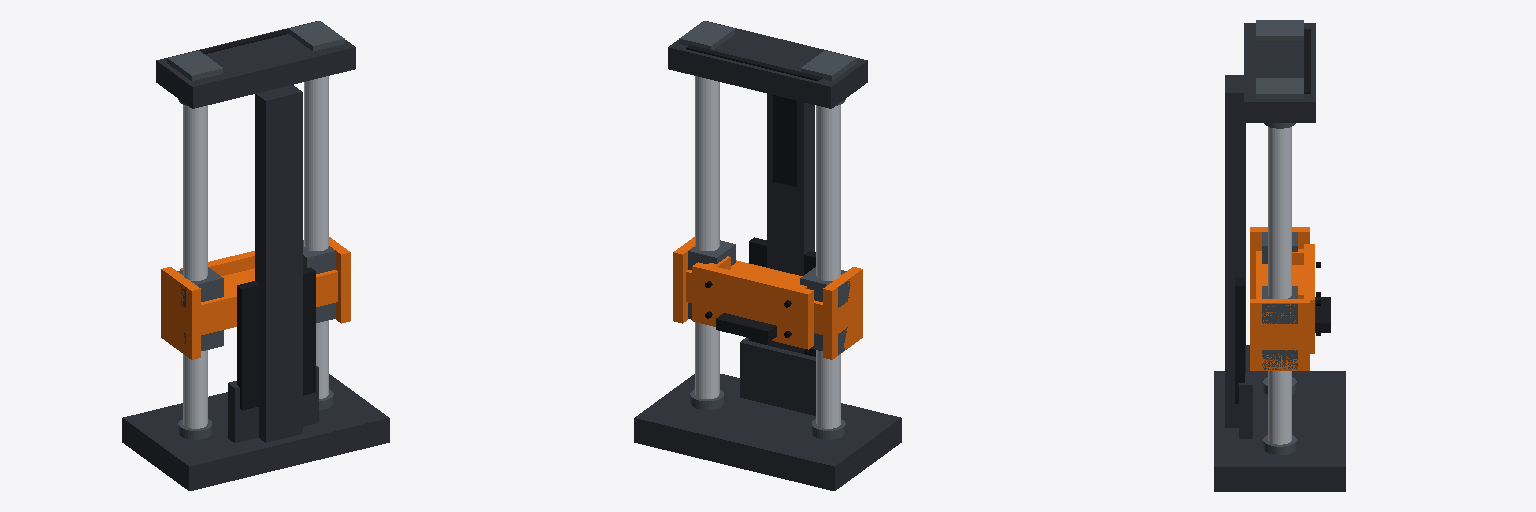
robot.urdf — dual_column_lift_carriage:
<robot name="dual_column_lift_carriage">
  <material name="machine_base">
    <color rgba="0.23 0.24 0.27 1" />
    </material>
  <material name="machine_shadow">
    <color rgba="0.14 0.15 0.17 1" />
    </material>
  <material name="guide_steel">
    <color rgba="0.79 0.81 0.84 1" />
    </material>
  <material name="carriage_paint">
    <color rgba="0.96 0.48 0.11 1" />
    </material>
  <material name="bearing_housing">
    <color rgba="0.33 0.36 0.39 1" />
    </material>
  <material name="bushing_bronze">
    <color rgba="0.69 0.53 0.25 1" />
    </material>
  <material name="fastener_black">
    <color rgba="0.1 0.1 0.11 1" />
    </material>
  <link name="base_plinth">
    <inertial>
      <origin xyz="0 0 0.0225" rpy="0 0 0" />
      <mass value="28" />
      <inertia ixx="0.117658" ixy="0" ixz="0" iyy="0.341658" iyz="0" izz="0.449867" />
      </inertial>
    <visual>
      <origin xyz="0 0 0.0225" rpy="0 0 0" />
      <geometry>
        <box size="0.38 0.22 0.045" />
        </geometry>
      <material name="machine_base" />
      </visual>
    <visual>
      <origin xyz="0 -0.065 0.01" rpy="0 0 0" />
      <geometry>
        <box size="0.29 0.05 0.02" />
        </geometry>
      <material name="machine_shadow" />
      </visual>
    <visual>
      <origin xyz="0 0.065 0.01" rpy="0 0 0" />
      <geometry>
        <box size="0.29 0.05 0.02" />
        </geometry>
      <material name="machine_shadow" />
      </visual>
    <collision name="base_plinth__visual_1">
      <origin xyz="0 0 0.0225" rpy="0 0 0" />
      <geometry>
        <box size="0.38 0.22 0.045" />
        </geometry>
      </collision>
    <collision name="base_plinth__visual_2">
      <origin xyz="0 -0.065 0.01" rpy="0 0 0" />
      <geometry>
        <box size="0.29 0.05 0.02" />
        </geometry>
      </collision>
    <collision name="base_plinth__visual_3">
      <origin xyz="0 0.065 0.01" rpy="0 0 0" />
      <geometry>
        <box size="0.29 0.05 0.02" />
        </geometry>
      </collision>
    </link>
  <link name="service_mast">
    <inertial>
      <origin xyz="0 0.012 0.31" rpy="0 0 0" />
      <mass value="11" />
      <inertia ixx="0.354658" ixy="0" ixz="0" iyy="0.382067" iyz="0" izz="0.0319917" />
      </inertial>
    <visual>
      <origin xyz="0 0 0.31" rpy="0 0 0" />
      <geometry>
        <box size="0.07 0.035 0.62" />
        </geometry>
      <material name="machine_base" />
      </visual>
    <visual>
      <origin xyz="0 0.018 0.05" rpy="0 0 0" />
      <geometry>
        <box size="0.16 0.024 0.1" />
        </geometry>
      <material name="machine_base" />
      </visual>
    <visual>
      <origin xyz="0 0.008 0.49" rpy="0 0 0" />
      <geometry>
        <box size="0.045 0.02 0.18" />
        </geometry>
      <material name="machine_shadow" />
      </visual>
    <visual>
      <origin xyz="-0.045 0.008 0.17" rpy="0 0 0" />
      <geometry>
        <box size="0.05 0.018 0.22" />
        </geometry>
      <material name="machine_shadow" />
      </visual>
    <visual>
      <origin xyz="0.045 0.008 0.17" rpy="0 0 0" />
      <geometry>
        <box size="0.05 0.018 0.22" />
        </geometry>
      <material name="machine_shadow" />
      </visual>
    <collision name="service_mast__visual_1">
      <origin xyz="0 0 0.31" rpy="0 0 0" />
      <geometry>
        <box size="0.07 0.035 0.62" />
        </geometry>
      </collision>
    <collision name="service_mast__visual_2">
      <origin xyz="0 0.018 0.05" rpy="0 0 0" />
      <geometry>
        <box size="0.16 0.024 0.1" />
        </geometry>
      </collision>
    <collision name="service_mast__visual_3">
      <origin xyz="0 0.008 0.49" rpy="0 0 0" />
      <geometry>
        <box size="0.045 0.02 0.18" />
        </geometry>
      </collision>
    <collision name="service_mast__visual_4">
      <origin xyz="-0.045 0.008 0.17" rpy="0 0 0" />
      <geometry>
        <box size="0.05 0.018 0.22" />
        </geometry>
      </collision>
    <collision name="service_mast__visual_5">
      <origin xyz="0.045 0.008 0.17" rpy="0 0 0" />
      <geometry>
        <box size="0.05 0.018 0.22" />
        </geometry>
      </collision>
    </link>
  <link name="left_column">
    <inertial>
      <origin xyz="0 0 0.31" rpy="0 0 0" />
      <mass value="6.8" />
      <inertia ixx="0.218649" ixy="0" ixz="0" iyy="0.218649" iyz="0" izz="0.0016456" />
      </inertial>
    <visual>
      <origin xyz="0 0 0.31" rpy="0 0 0" />
      <geometry>
        <cylinder radius="0.02" length="0.62" />
        </geometry>
      <material name="guide_steel" />
      </visual>
    <visual>
      <origin xyz="0 0 0.008" rpy="0 0 0" />
      <geometry>
        <cylinder radius="0.028" length="0.016" />
        </geometry>
      <material name="bearing_housing" />
      </visual>
    <visual>
      <origin xyz="0 0 0.612" rpy="0 0 0" />
      <geometry>
        <cylinder radius="0.028" length="0.016" />
        </geometry>
      <material name="bearing_housing" />
      </visual>
    <collision name="left_column__visual_1">
      <origin xyz="0 0 0.31" rpy="0 0 0" />
      <geometry>
        <cylinder radius="0.02" length="0.62" />
        </geometry>
      </collision>
    <collision name="left_column__visual_2">
      <origin xyz="0 0 0.008" rpy="0 0 0" />
      <geometry>
        <cylinder radius="0.028" length="0.016" />
        </geometry>
      </collision>
    <collision name="left_column__visual_3">
      <origin xyz="0 0 0.612" rpy="0 0 0" />
      <geometry>
        <cylinder radius="0.028" length="0.016" />
        </geometry>
      </collision>
    </link>
  <link name="right_column">
    <inertial>
      <origin xyz="0 0 0.31" rpy="0 0 0" />
      <mass value="6.8" />
      <inertia ixx="0.218649" ixy="0" ixz="0" iyy="0.218649" iyz="0" izz="0.0016456" />
      </inertial>
    <visual>
      <origin xyz="0 0 0.31" rpy="0 0 0" />
      <geometry>
        <cylinder radius="0.02" length="0.62" />
        </geometry>
      <material name="guide_steel" />
      </visual>
    <visual>
      <origin xyz="0 0 0.008" rpy="0 0 0" />
      <geometry>
        <cylinder radius="0.028" length="0.016" />
        </geometry>
      <material name="bearing_housing" />
      </visual>
    <visual>
      <origin xyz="0 0 0.612" rpy="0 0 0" />
      <geometry>
        <cylinder radius="0.028" length="0.016" />
        </geometry>
      <material name="bearing_housing" />
      </visual>
    <collision name="right_column__visual_1">
      <origin xyz="0 0 0.31" rpy="0 0 0" />
      <geometry>
        <cylinder radius="0.02" length="0.62" />
        </geometry>
      </collision>
    <collision name="right_column__visual_2">
      <origin xyz="0 0 0.008" rpy="0 0 0" />
      <geometry>
        <cylinder radius="0.028" length="0.016" />
        </geometry>
      </collision>
    <collision name="right_column__visual_3">
      <origin xyz="0 0 0.612" rpy="0 0 0" />
      <geometry>
        <cylinder radius="0.028" length="0.016" />
        </geometry>
      </collision>
    </link>
  <link name="top_tie">
    <inertial>
      <origin xyz="0.115 0 0.025" rpy="0 0 0" />
      <mass value="8" />
      <inertia ixx="0.0112667" ixy="0" ixz="0" iyy="0.0657333" iyz="0" izz="0.0736667" />
      </inertial>
    <visual>
      <origin xyz="0.115 0 0.02" rpy="0 0 0" />
      <geometry>
        <box size="0.31 0.12 0.04" />
        </geometry>
      <material name="machine_base" />
      </visual>
    <visual>
      <origin xyz="0 0 0.025" rpy="0 0 0" />
      <geometry>
        <box size="0.06 0.08 0.05" />
        </geometry>
      <material name="bearing_housing" />
      </visual>
    <visual>
      <origin xyz="0.23 0 0.025" rpy="0 0 0" />
      <geometry>
        <box size="0.06 0.08 0.05" />
        </geometry>
      <material name="bearing_housing" />
      </visual>
    <visual>
      <origin xyz="0.115 0.046 0.028" rpy="0 0 0" />
      <geometry>
        <box size="0.25 0.012 0.03" />
        </geometry>
      <material name="machine_shadow" />
      </visual>
    <collision name="top_tie__visual_1">
      <origin xyz="0.115 0 0.02" rpy="0 0 0" />
      <geometry>
        <box size="0.31 0.12 0.04" />
        </geometry>
      </collision>
    <collision name="top_tie__visual_2">
      <origin xyz="0 0 0.025" rpy="0 0 0" />
      <geometry>
        <box size="0.06 0.08 0.05" />
        </geometry>
      </collision>
    <collision name="top_tie__visual_3">
      <origin xyz="0.23 0 0.025" rpy="0 0 0" />
      <geometry>
        <box size="0.06 0.08 0.05" />
        </geometry>
      </collision>
    <collision name="top_tie__visual_4">
      <origin xyz="0.115 0.046 0.028" rpy="0 0 0" />
      <geometry>
        <box size="0.25 0.012 0.03" />
        </geometry>
      </collision>
    </link>
  <link name="carriage">
    <inertial>
      <origin xyz="0.115 0.012 0.0425" rpy="0 0 0" />
      <mass value="8.5" />
      <inertia ixx="0.0205417" ixy="0" ixz="0" iyy="0.0800417" iyz="0" izz="0.0766417" />
      </inertial>
    <visual>
      <geometry>
        <box size="0.072 0.062 0.038" />
        </geometry>
      <material name="bearing_housing" />
      </visual>
    <visual>
      <geometry>
        <cylinder radius="0.026" length="0.03" />
        </geometry>
      <material name="bushing_bronze" />
      </visual>
    <visual>
      <origin xyz="0 0 0.085" rpy="0 0 0" />
      <geometry>
        <box size="0.072 0.062 0.038" />
        </geometry>
      <material name="bearing_housing" />
      </visual>
    <visual>
      <origin xyz="0 0 0.085" rpy="0 0 0" />
      <geometry>
        <cylinder radius="0.026" length="0.03" />
        </geometry>
      <material name="bushing_bronze" />
      </visual>
    <visual>
      <origin xyz="0.23 0 0" rpy="0 0 0" />
      <geometry>
        <box size="0.072 0.062 0.038" />
        </geometry>
      <material name="bearing_housing" />
      </visual>
    <visual>
      <origin xyz="0.23 0 0" rpy="0 0 0" />
      <geometry>
        <cylinder radius="0.026" length="0.03" />
        </geometry>
      <material name="bushing_bronze" />
      </visual>
    <visual>
      <origin xyz="0.23 0 0.085" rpy="0 0 0" />
      <geometry>
        <box size="0.072 0.062 0.038" />
        </geometry>
      <material name="bearing_housing" />
      </visual>
    <visual>
      <origin xyz="0.23 0 0.085" rpy="0 0 0" />
      <geometry>
        <cylinder radius="0.026" length="0.03" />
        </geometry>
      <material name="bushing_bronze" />
      </visual>
    <visual>
      <origin xyz="-0.027 0 0.0425" rpy="0 0 0" />
      <geometry>
        <box size="0.018 0.1 0.125" />
        </geometry>
      <material name="carriage_paint" />
      </visual>
    <visual>
      <origin xyz="0.257 0 0.0425" rpy="0 0 0" />
      <geometry>
        <box size="0.018 0.1 0.125" />
        </geometry>
      <material name="carriage_paint" />
      </visual>
    <visual>
      <origin xyz="0.115 0 0.0425" rpy="0 0 0" />
      <geometry>
        <box size="0.272 0.08 0.055" />
        </geometry>
      <material name="carriage_paint" />
      </visual>
    <visual>
      <origin xyz="0.115 0.049 0.0425" rpy="0 0 0" />
      <geometry>
        <box size="0.22 0.018 0.1" />
        </geometry>
      <material name="carriage_paint" />
      </visual>
    <visual>
      <origin xyz="0.032 0.02 0.0425" rpy="0 0 0" />
      <geometry>
        <box size="0.018 0.05 0.1" />
        </geometry>
      <material name="carriage_paint" />
      </visual>
    <visual>
      <origin xyz="0.198 0.02 0.0425" rpy="0 0 0" />
      <geometry>
        <box size="0.018 0.05 0.1" />
        </geometry>
      <material name="carriage_paint" />
      </visual>
    <visual>
      <origin xyz="0.115 0.07 0.012" rpy="0 0 0" />
      <geometry>
        <box size="0.1 0.03 0.02" />
        </geometry>
      <material name="machine_shadow" />
      </visual>
    <visual>
      <origin xyz="0.04 0.065 0.015" rpy="1.5708 0 0" />
      <geometry>
        <cylinder radius="0.005" length="0.008" />
        </geometry>
      <material name="fastener_black" />
      </visual>
    <visual>
      <origin xyz="0.04 0.065 0.07" rpy="1.5708 0 0" />
      <geometry>
        <cylinder radius="0.005" length="0.008" />
        </geometry>
      <material name="fastener_black" />
      </visual>
    <visual>
      <origin xyz="0.19 0.065 0.015" rpy="1.5708 0 0" />
      <geometry>
        <cylinder radius="0.005" length="0.008" />
        </geometry>
      <material name="fastener_black" />
      </visual>
    <visual>
      <origin xyz="0.19 0.065 0.07" rpy="1.5708 0 0" />
      <geometry>
        <cylinder radius="0.005" length="0.008" />
        </geometry>
      <material name="fastener_black" />
      </visual>
    <collision name="carriage__visual_1">
      <geometry>
        <box size="0.072 0.062 0.038" />
        </geometry>
      </collision>
    <collision name="carriage__visual_2">
      <geometry>
        <cylinder radius="0.026" length="0.03" />
        </geometry>
      </collision>
    <collision name="carriage__visual_3">
      <origin xyz="0 0 0.085" rpy="0 0 0" />
      <geometry>
        <box size="0.072 0.062 0.038" />
        </geometry>
      </collision>
    <collision name="carriage__visual_4">
      <origin xyz="0 0 0.085" rpy="0 0 0" />
      <geometry>
        <cylinder radius="0.026" length="0.03" />
        </geometry>
      </collision>
    <collision name="carriage__visual_5">
      <origin xyz="0.23 0 0" rpy="0 0 0" />
      <geometry>
        <box size="0.072 0.062 0.038" />
        </geometry>
      </collision>
    <collision name="carriage__visual_6">
      <origin xyz="0.23 0 0" rpy="0 0 0" />
      <geometry>
        <cylinder radius="0.026" length="0.03" />
        </geometry>
      </collision>
    <collision name="carriage__visual_7">
      <origin xyz="0.23 0 0.085" rpy="0 0 0" />
      <geometry>
        <box size="0.072 0.062 0.038" />
        </geometry>
      </collision>
    <collision name="carriage__visual_8">
      <origin xyz="0.23 0 0.085" rpy="0 0 0" />
      <geometry>
        <cylinder radius="0.026" length="0.03" />
        </geometry>
      </collision>
    <collision name="carriage__visual_9">
      <origin xyz="-0.027 0 0.0425" rpy="0 0 0" />
      <geometry>
        <box size="0.018 0.1 0.125" />
        </geometry>
      </collision>
    <collision name="carriage__visual_10">
      <origin xyz="0.257 0 0.0425" rpy="0 0 0" />
      <geometry>
        <box size="0.018 0.1 0.125" />
        </geometry>
      </collision>
    <collision name="carriage__visual_11">
      <origin xyz="0.115 0 0.0425" rpy="0 0 0" />
      <geometry>
        <box size="0.272 0.08 0.055" />
        </geometry>
      </collision>
    <collision name="carriage__visual_12">
      <origin xyz="0.115 0.049 0.0425" rpy="0 0 0" />
      <geometry>
        <box size="0.22 0.018 0.1" />
        </geometry>
      </collision>
    <collision name="carriage__visual_13">
      <origin xyz="0.032 0.02 0.0425" rpy="0 0 0" />
      <geometry>
        <box size="0.018 0.05 0.1" />
        </geometry>
      </collision>
    <collision name="carriage__visual_14">
      <origin xyz="0.198 0.02 0.0425" rpy="0 0 0" />
      <geometry>
        <box size="0.018 0.05 0.1" />
        </geometry>
      </collision>
    <collision name="carriage__visual_15">
      <origin xyz="0.115 0.07 0.012" rpy="0 0 0" />
      <geometry>
        <box size="0.1 0.03 0.02" />
        </geometry>
      </collision>
    <collision name="carriage__visual_16">
      <origin xyz="0.04 0.065 0.015" rpy="1.5708 0 0" />
      <geometry>
        <cylinder radius="0.005" length="0.008" />
        </geometry>
      </collision>
    <collision name="carriage__visual_17">
      <origin xyz="0.04 0.065 0.07" rpy="1.5708 0 0" />
      <geometry>
        <cylinder radius="0.005" length="0.008" />
        </geometry>
      </collision>
    <collision name="carriage__visual_18">
      <origin xyz="0.19 0.065 0.015" rpy="1.5708 0 0" />
      <geometry>
        <cylinder radius="0.005" length="0.008" />
        </geometry>
      </collision>
    <collision name="carriage__visual_19">
      <origin xyz="0.19 0.065 0.07" rpy="1.5708 0 0" />
      <geometry>
        <cylinder radius="0.005" length="0.008" />
        </geometry>
      </collision>
    </link>
  <joint name="base_to_service_mast" type="fixed">
    <origin xyz="0 -0.075 0.045" rpy="0 0 0" />
    <parent link="base_plinth" />
    <child link="service_mast" />
    </joint>
  <joint name="base_to_left_column" type="fixed">
    <origin xyz="-0.115 0 0.045" rpy="0 0 0" />
    <parent link="base_plinth" />
    <child link="left_column" />
    </joint>
  <joint name="base_to_right_column" type="fixed">
    <origin xyz="0.115 0 0.045" rpy="0 0 0" />
    <parent link="base_plinth" />
    <child link="right_column" />
    </joint>
  <joint name="left_column_to_top_tie" type="fixed">
    <origin xyz="0 0 0.62" rpy="0 0 0" />
    <parent link="left_column" />
    <child link="top_tie" />
    </joint>
  <joint name="carriage_slide" type="prismatic">
    <origin xyz="0 0 0.18" rpy="0 0 0" />
    <parent link="left_column" />
    <child link="carriage" />
    <axis xyz="0 0 1" />
    <limit effort="800" velocity="0.2" lower="0" upper="0.3" />
    </joint>
  </robot>

--- What the picture shows (computed from the rendered views, not written in the file) ---
3 views of the same robot in one strip: view 1: azimuth 30°, elevation 25°; view 2: azimuth 150°, elevation 25°; view 3: azimuth 270°, elevation 25° (orthographic).
Robot: dual_column_lift_carriage — 6 links, 5 joints (1 prismatic, 4 fixed); root link base_plinth; default pose: every joint at zero.
Visible links, largest first — view 1: service_mast, base_plinth, top_tie, carriage, left_column, right_column; view 2: base_plinth, carriage, service_mast, top_tie, left_column, right_column; view 3: base_plinth, carriage, service_mast, top_tie, right_column.
Boxes of the visible links, x1=… form: service_mast: x1=228, y1=85, x2=318, y2=442; base_plinth: x1=122, y1=374, x2=389, y2=490; top_tie: x1=156, y1=21, x2=355, y2=108; carriage: x1=161, y1=237, x2=350, y2=359; left_column: x1=178, y1=99, x2=211, y2=439; right_column: x1=304, y1=76, x2=333, y2=409; base_plinth: x1=634, y1=374, x2=901, y2=490; carriage: x1=673, y1=237, x2=862, y2=359; service_mast: x1=740, y1=94, x2=815, y2=415; top_tie: x1=668, y1=21, x2=867, y2=108; left_column: x1=812, y1=99, x2=845, y2=439; right_column: x1=690, y1=76, x2=723, y2=409; base_plinth: x1=1214, y1=371, x2=1345, y2=491; carriage: x1=1250, y1=227, x2=1330, y2=370; service_mast: x1=1225, y1=75, x2=1252, y2=438; top_tie: x1=1244, y1=20, x2=1315, y2=122; right_column: x1=1263, y1=123, x2=1296, y2=454.
Bounding box of the posed robot: 0.38 × 0.22 × 0.715 m (x, y, z).
Geometry: primitives only (box / cylinder / sphere), no mesh files.
